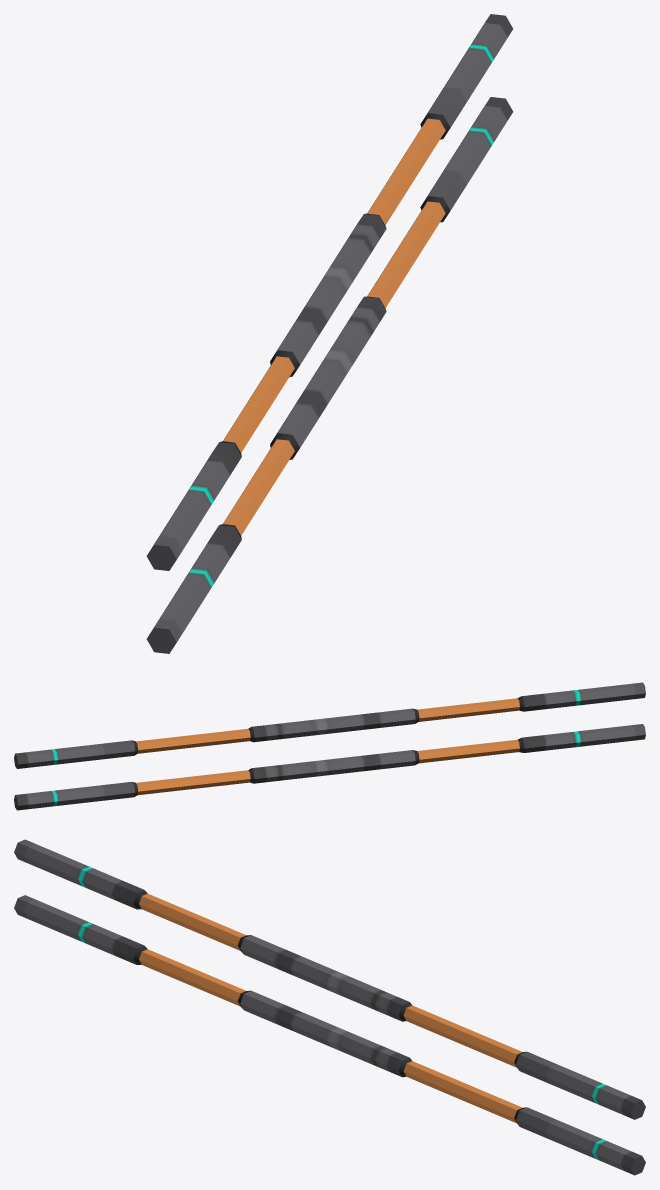
The model's file is SM_Bld_Railing_Rail_45_01.fbx.
3 views of the same model, one above another, from view 1: azimuth 30°, elevation 25°; view 2: azimuth 150°, elevation 25°; view 3: azimuth 270°, elevation 25° (orthographic). The views are drawn at different scales.
Visible parts, largest first — view 1: SM_Bld_Railing_Rail_45_01; view 2: SM_Bld_Railing_Rail_45_01; view 3: SM_Bld_Railing_Rail_45_01.
Boxes of the visible parts, left/top/right/bottom form: SM_Bld_Railing_Rail_45_01: left=146, top=14, right=513, bottom=653; SM_Bld_Railing_Rail_45_01: left=14, top=682, right=645, bottom=810; SM_Bld_Railing_Rail_45_01: left=14, top=839, right=645, bottom=1175.
Bounding box in the file's own units: 258 × 32.47 × 258.
